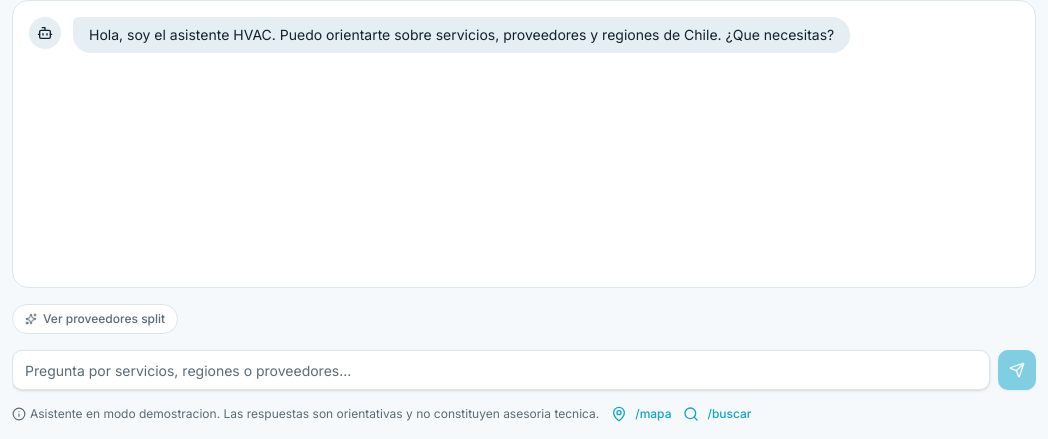
Scenario: ChatStub › acepta variantes de respuesta (message/answer) y sugerencias
Click the button "Ver proveedores split" at [95, 319], box [12,304,178,334]
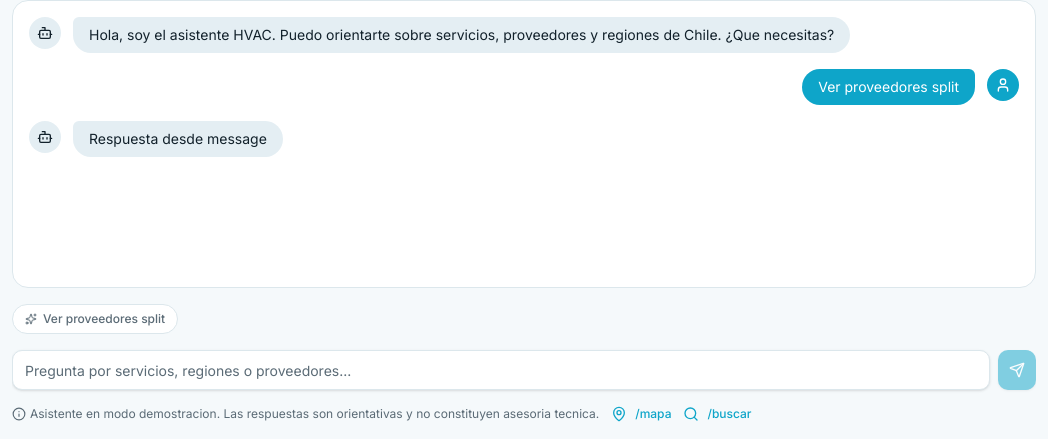
Check: the text "Respuesta desde message" is shown, box [73,121,283,157]
